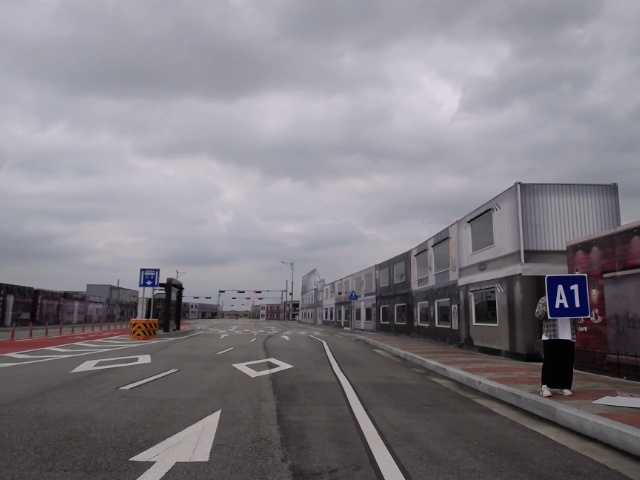delivery_a1: (545, 274, 590, 319)
